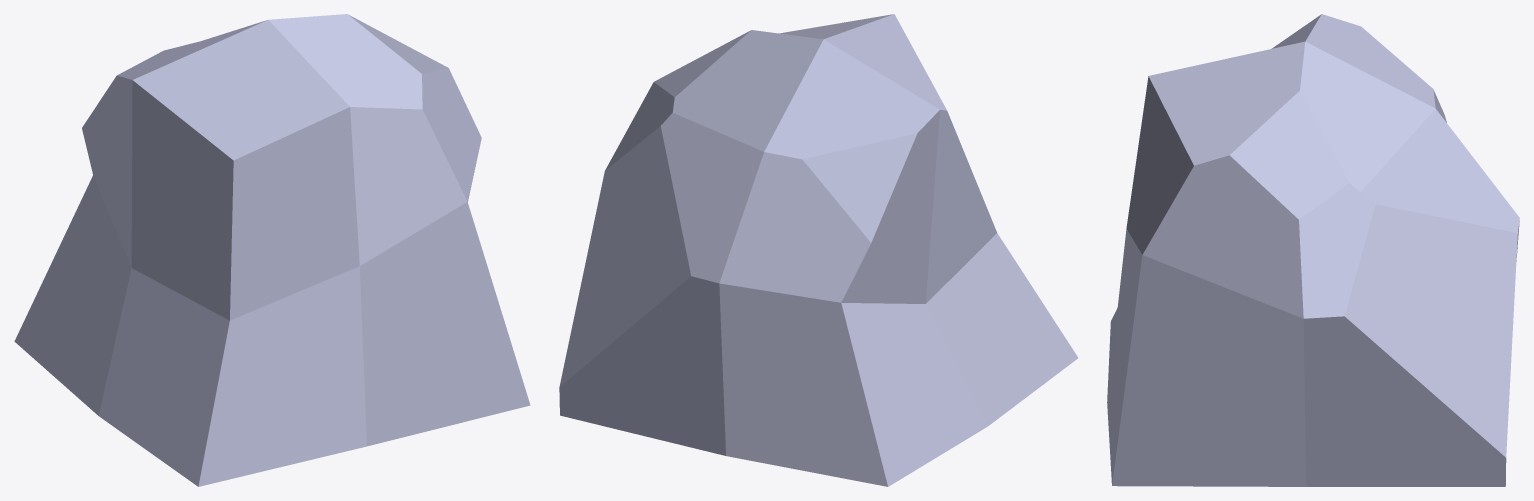
File: Stone1.fbx
3 renders of one model, left to right at view 1: azimuth 30°, elevation 25°; view 2: azimuth 150°, elevation 25°; view 3: azimuth 270°, elevation 25°, orthographic. The views are drawn at different scales.
Parts seen in each view (by area): view 1: Cube; view 2: Cube; view 3: Cube.
Part boxes in pixels (left/top/right/bottom): Cube: left=14, top=14, right=530, bottom=486; Cube: left=559, top=14, right=1078, bottom=486; Cube: left=1107, top=14, right=1519, bottom=486.
Size of the model in its own units: 224 by 200 by 207.
